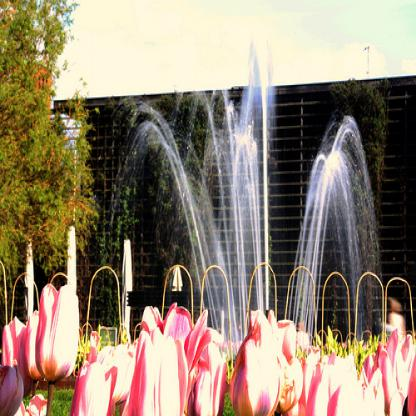TULIP: (11, 186, 414, 412)
